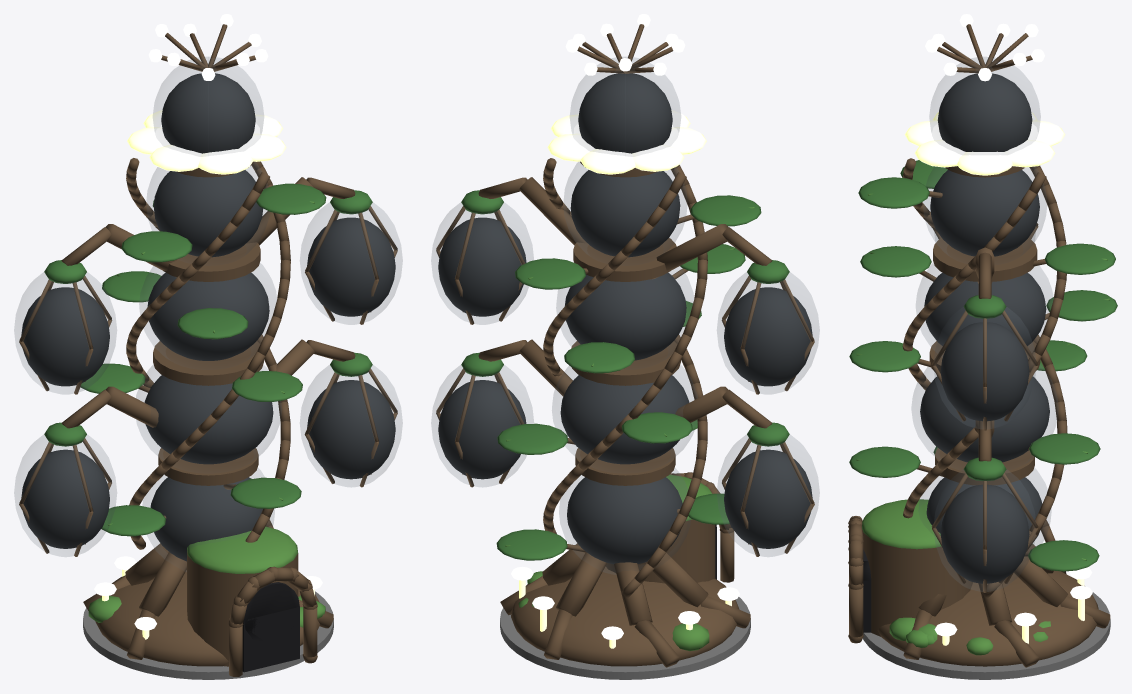
The model's file is BLOOM_Vat_T4.glb.
3 renders of one model, left to right at view 1: azimuth 30°, elevation 25°; view 2: azimuth 150°, elevation 25°; view 3: azimuth 270°, elevation 25°, orthographic.
Parts seen in each view (by area): view 1: BLOOM_Vat_T4; view 2: BLOOM_Vat_T4; view 3: BLOOM_Vat_T4.
Boxes of the visible parts, x1,y1,x2,y2 form: BLOOM_Vat_T4: (14,14,402,679); BLOOM_Vat_T4: (431,14,819,679); BLOOM_Vat_T4: (848,14,1117,679).
Bounding box in the file's own units: 6.09 × 9.38 × 3.76.
